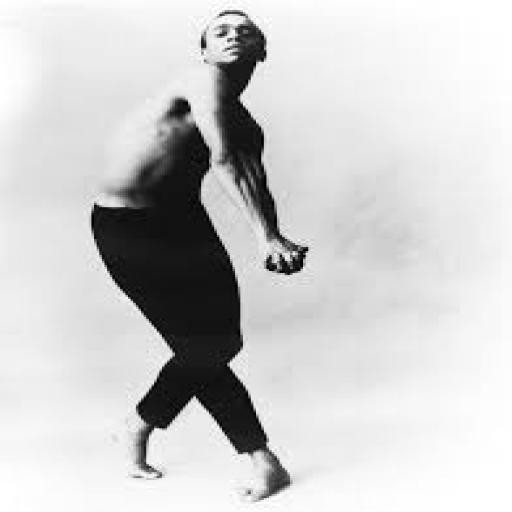dancing: (84, 6, 314, 504)
